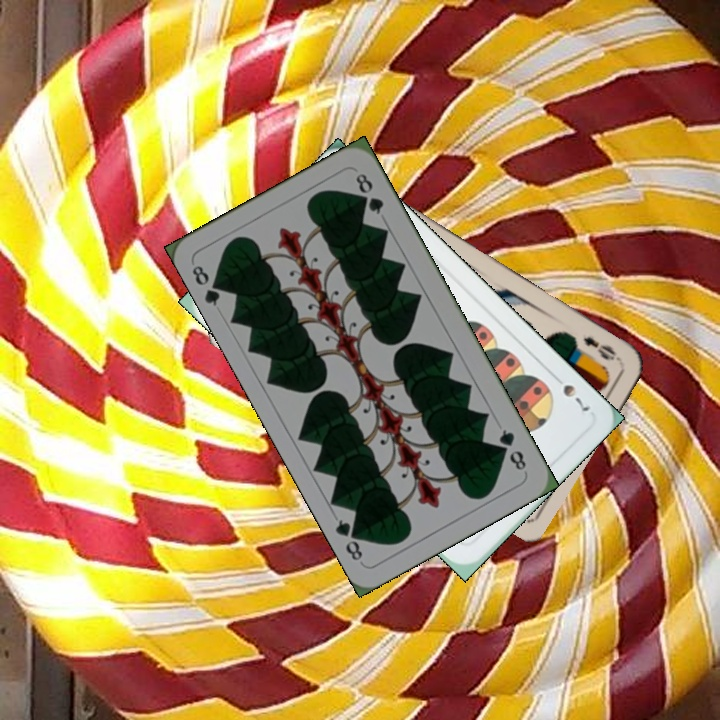EO: (579, 332, 624, 366)
G8: (187, 260, 228, 309), (495, 424, 529, 474)
S7: (547, 369, 592, 414)
